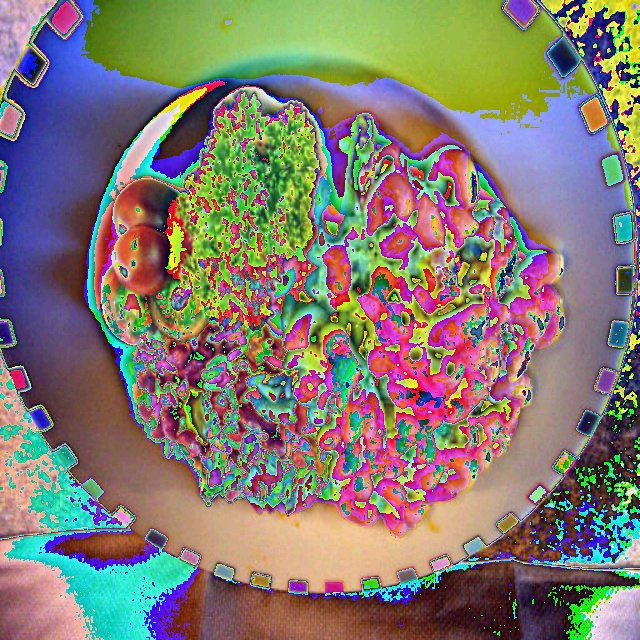background: (100, 94, 567, 538)
